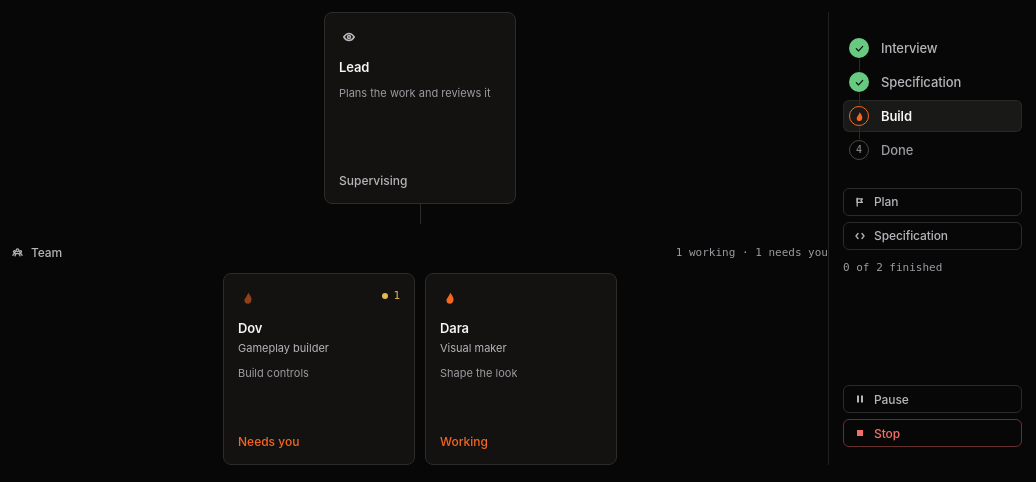
Test: DevTeamPane › gives the composer to the lead alone, never to the board or an engineer
Click the button with aria-label ", Build controls," at (319,369), box [223,273,415,465]
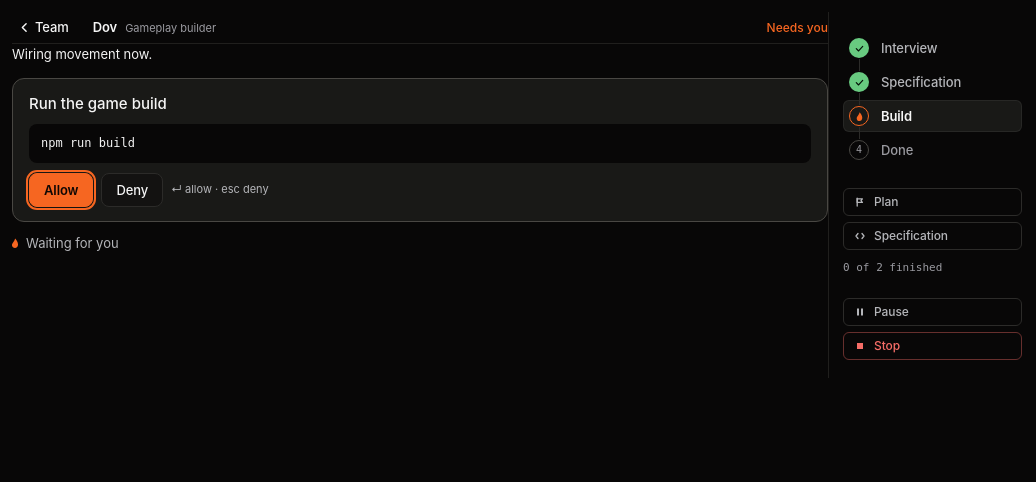
Click the button with aria-label "Back to the team" at (45,27), box [12,12,79,43]
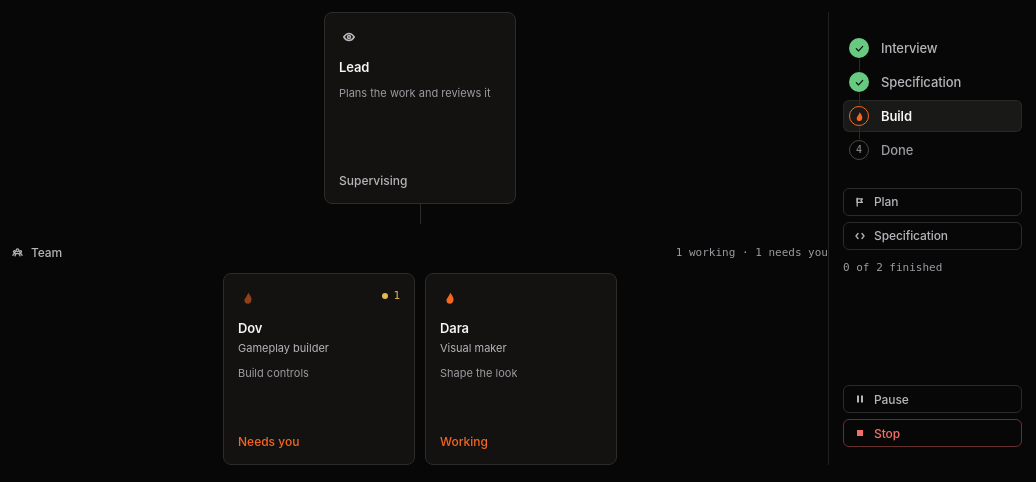
Click the button with aria-label "Lead, Plans the work" at (420,108), box [324,12,516,204]
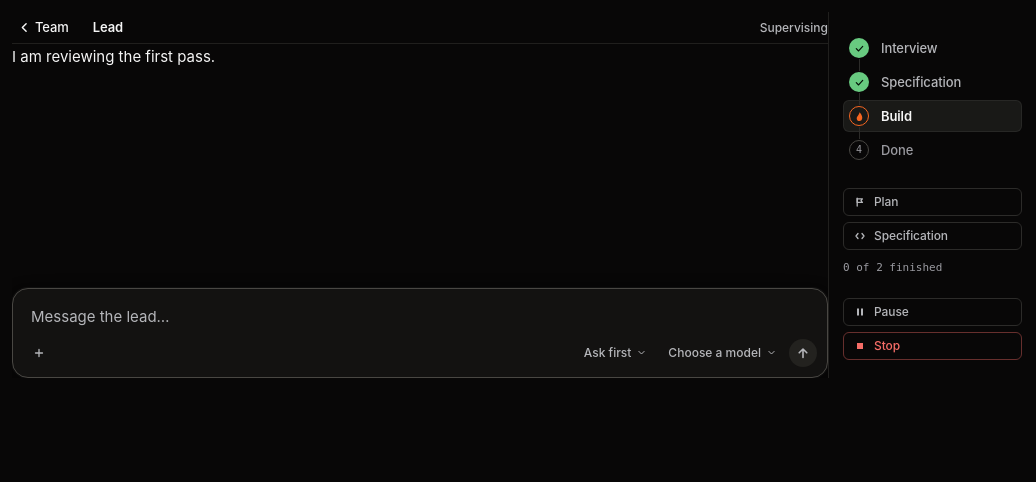
Result: the text box labelled "Message the lead" is shown at [13,289,827,335]
